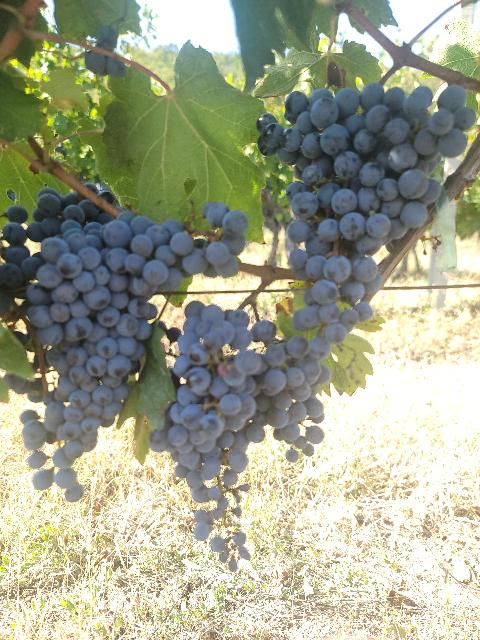grapes: (22, 196, 249, 495), (256, 82, 476, 344), (150, 301, 266, 571), (251, 320, 330, 461)
